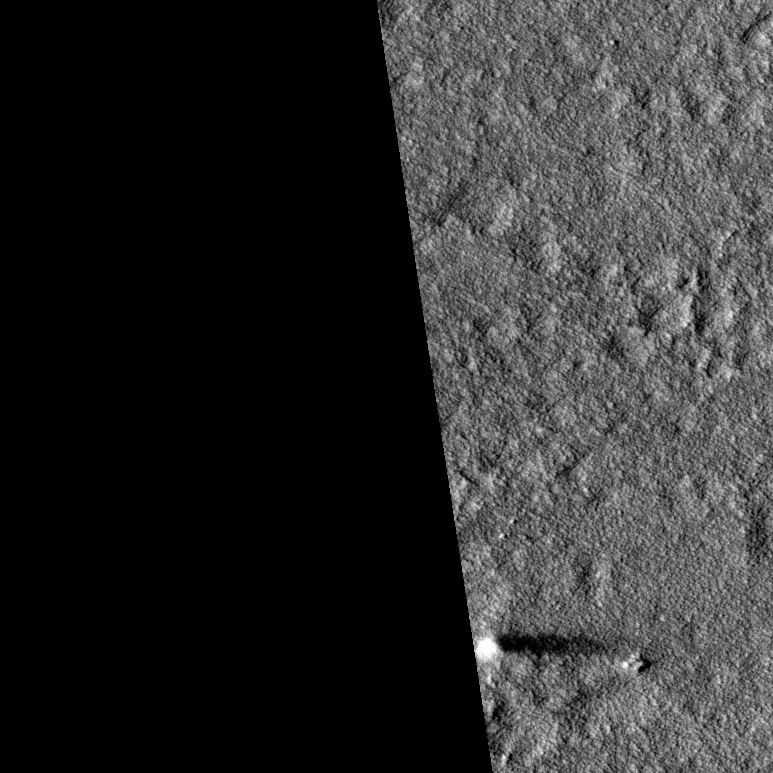dust_devil: (475, 631, 617, 663)
